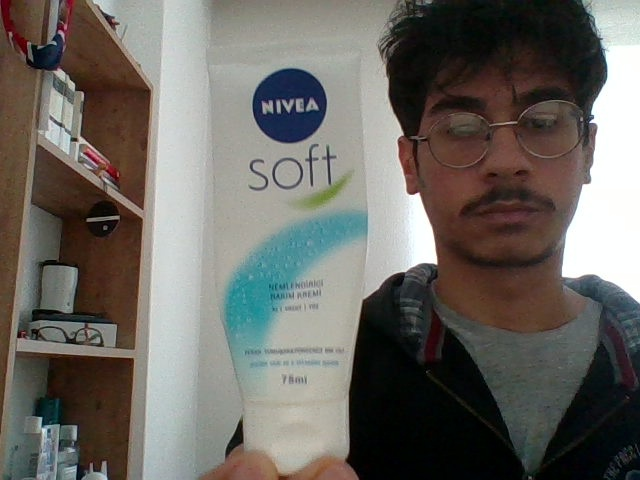NiveaSoft: (202, 44, 370, 403)
